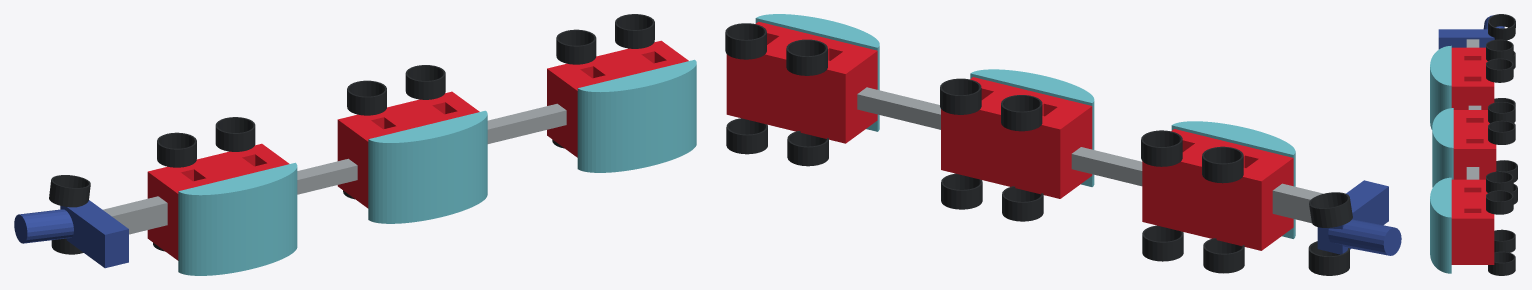
File: tinker.obj
3 views of the same model, side by side, from view 1: azimuth 30°, elevation 25°; view 2: azimuth 150°, elevation 25°; view 3: azimuth 270°, elevation 25° (orthographic). The views are drawn at different scales.
Visible parts, largest first — view 1: group_0_7720667, group_0_15277357, group_0_2829873, group_0_10988977, group_0_3888547; view 2: group_0_15277357, group_0_2829873, group_0_7720667, group_0_10988977, group_0_3888547; view 3: group_0_15277357, group_0_2829873, group_0_7720667, group_0_3888547, group_0_10988977.
Part boxes in pixels (x1,y1,x2,y2): group_0_7720667: [178, 59, 696, 275]; group_0_15277357: [147, 40, 688, 260]; group_0_2829873: [49, 14, 654, 254]; group_0_10988977: [103, 103, 566, 234]; group_0_3888547: [14, 200, 128, 268]; group_0_15277357: [726, 21, 1293, 250]; group_0_2829873: [725, 23, 1352, 275]; group_0_7720667: [755, 14, 1295, 238]; group_0_10988977: [857, 87, 1323, 223]; group_0_3888547: [1317, 180, 1401, 255]; group_0_15277357: [1451, 47, 1496, 264]; group_0_2829873: [1486, 14, 1517, 275]; group_0_7720667: [1430, 45, 1453, 273]; group_0_3888547: [1438, 15, 1504, 49]; group_0_10988977: [1466, 39, 1481, 179].
Size of the model in its own units: 242 by 40.5 by 41.
